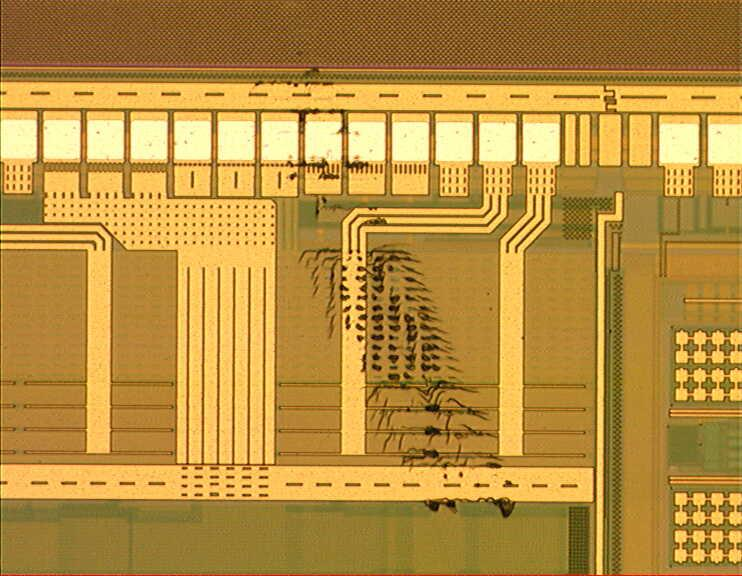SCRATCH: (278, 45, 523, 523)
